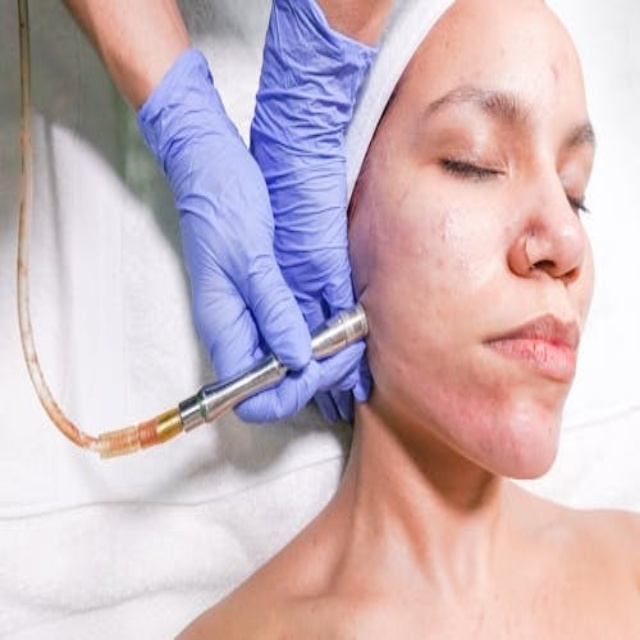Guantes: (129, 42, 319, 417), (246, 4, 380, 428)
Sin_gafas: (419, 76, 596, 218)
Sin_mascara: (472, 277, 584, 478)
